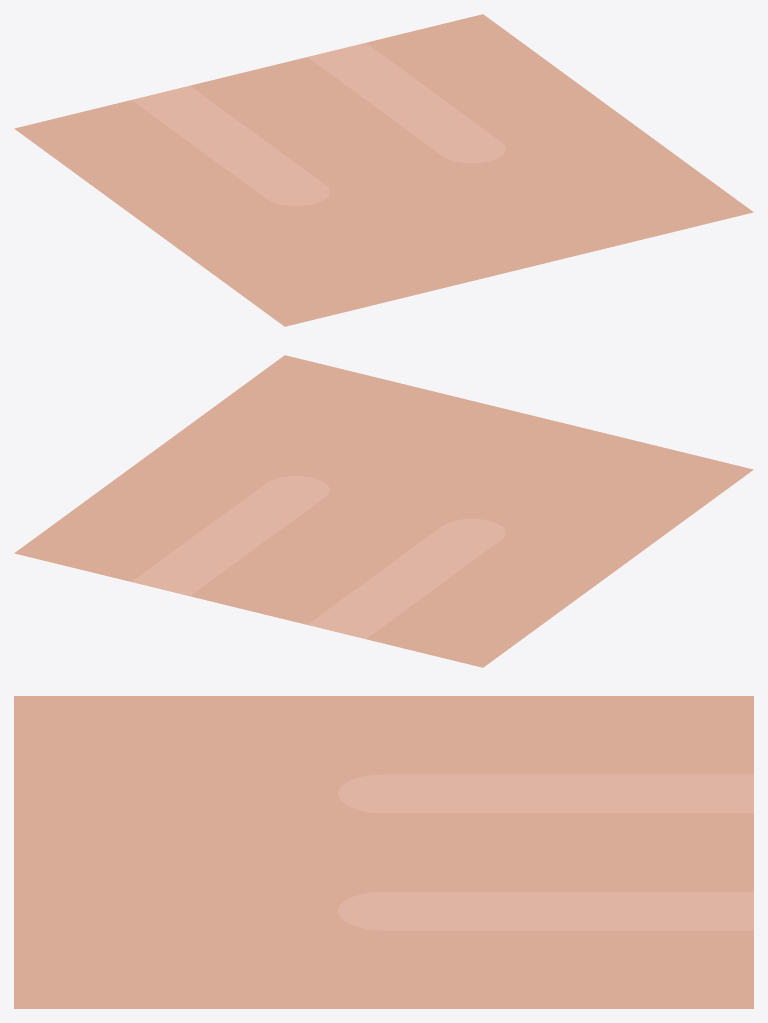
The model's file is terrain_roadEnd.glb.
3 views of the same model, one above another, from view 1: azimuth 30°, elevation 25°; view 2: azimuth 150°, elevation 25°; view 3: azimuth 270°, elevation 25° (orthographic). The views are drawn at different scales.
Parts seen in each view (by area): view 1: terrain_roadEnd; view 2: terrain_roadEnd; view 3: terrain_roadEnd.
Boxes of the visible parts, <box> form: terrain_roadEnd: <box>14,14,753,326</box>; terrain_roadEnd: <box>14,355,753,667</box>; terrain_roadEnd: <box>14,696,753,1008</box>.
Bounding box in the file's own units: 1 × 0 × 1.
